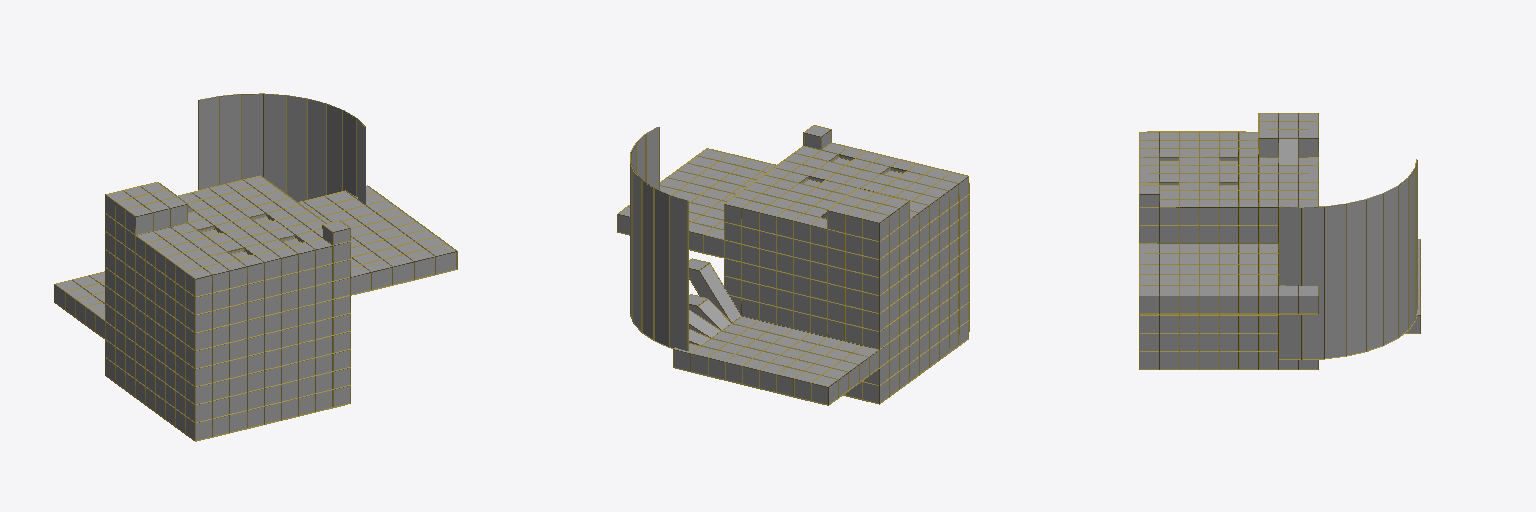
File: platform.obj
The picture shows the model from 3 angles: view 1: azimuth 30°, elevation 25°; view 2: azimuth 150°, elevation 25°; view 3: azimuth 270°, elevation 25°; orthographic projection.
Visible parts, largest first — view 1: Cube; view 2: Cube; view 3: Cube.
Part boxes in pixels (x1,y1,x2,y2): Cube: (54,93,457,441); Cube: (617,125,969,405); Cube: (1139,113,1420,369).
Bounding box in the file's own units: 25.63 × 19.14 × 23.83.